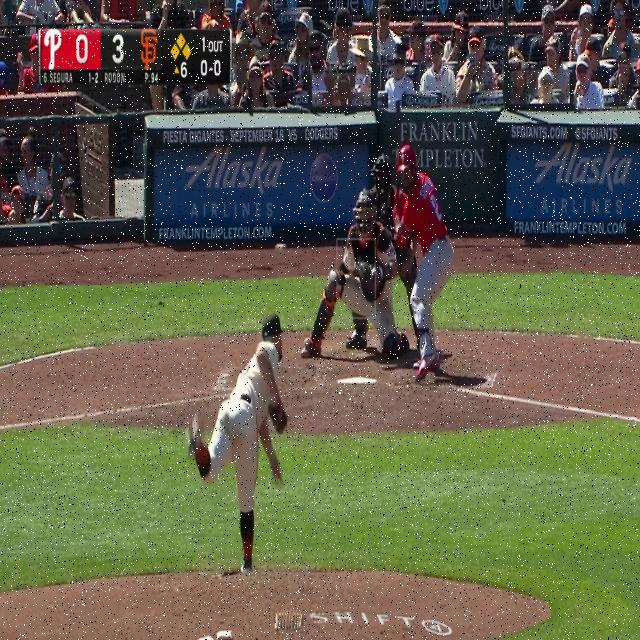baseball: (275, 243, 286, 256)
